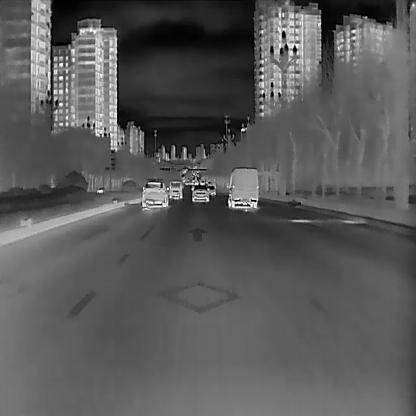car: (225, 167, 257, 209), (141, 180, 169, 209), (189, 185, 209, 201), (168, 180, 182, 199), (208, 184, 217, 196)
